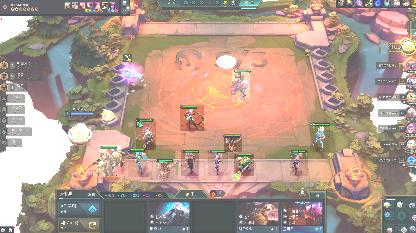1_aphelios: (181, 150, 199, 176)
1_braum: (232, 70, 250, 102)
1_jax: (234, 154, 254, 176)
1_kaisa: (128, 149, 148, 177)
1_lux: (136, 118, 156, 150)
1_qiyana: (180, 105, 204, 131)
1_rell: (99, 145, 121, 177)
1_twitch: (156, 159, 174, 179), (224, 134, 242, 152)
1_zyra: (208, 150, 228, 176), (290, 150, 308, 176)
2_ezreal: (310, 122, 330, 152)
